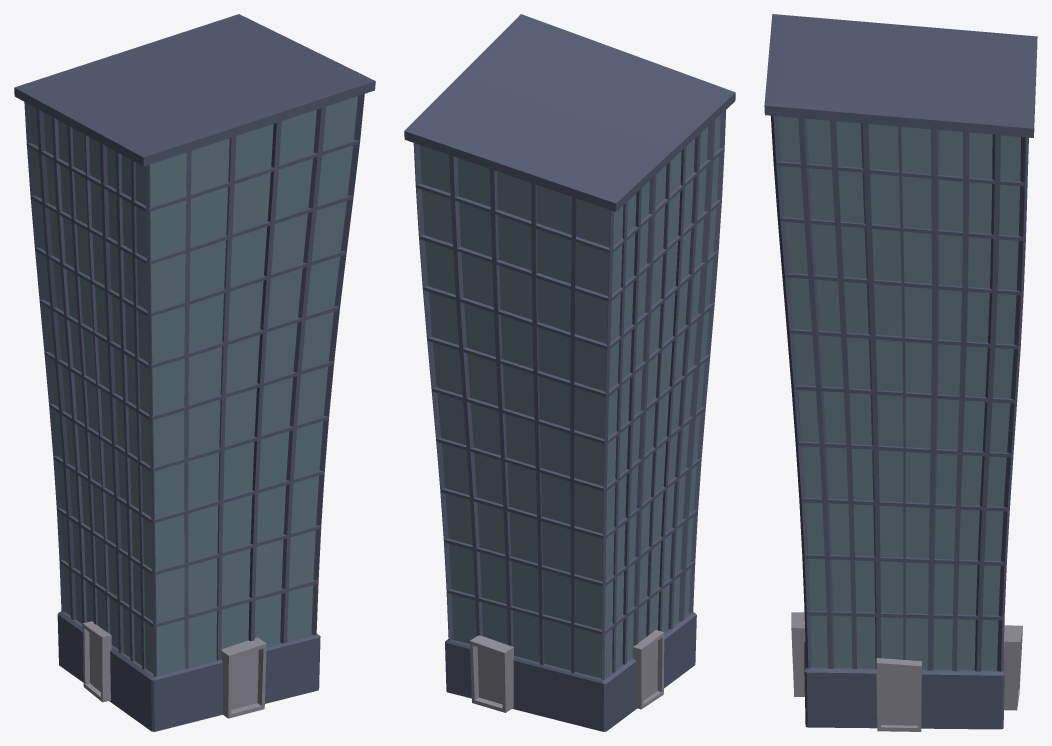
Rendered from Skyscraper1.fbx.
3 views of the same model, side by side, from view 1: azimuth 30°, elevation 25°; view 2: azimuth 150°, elevation 25°; view 3: azimuth 270°, elevation 25° (orthographic). The views are drawn at different scales.
Visible parts, largest first — view 1: Skyscraper 1, Window 3, Window 3.003; view 2: Skyscraper 1, Window 3.002, Window 3.003; view 3: Skyscraper 1, Window 3.001, Window 3.002, Window 3.
Part boxes in pixels (x1,y1,x2,y2): Skyscraper 1: (14, 14, 375, 731); Window 3: (221, 637, 266, 718); Window 3.003: (82, 621, 111, 702); Skyscraper 1: (404, 14, 735, 731); Window 3.002: (469, 635, 513, 712); Window 3.003: (632, 630, 664, 709); Skyscraper 1: (764, 14, 1037, 729); Window 3.001: (876, 658, 921, 731); Window 3.002: (1003, 625, 1022, 710); Window 3: (791, 612, 805, 696).
Size of the model in its own units: 406 by 1039 by 399.
